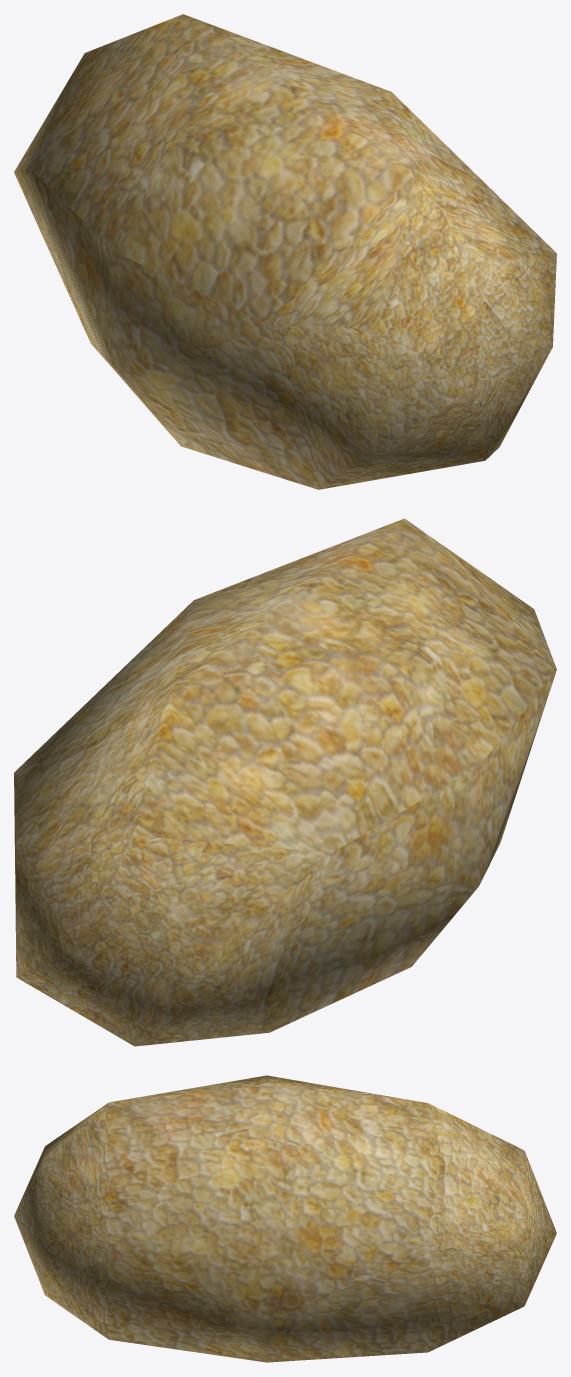
The model's file is Potato.FBX.
3 renders of one model, top to bottom at view 1: azimuth 30°, elevation 25°; view 2: azimuth 150°, elevation 25°; view 3: azimuth 270°, elevation 25°, orthographic. The views are drawn at different scales.
Parts seen in each view (by area): view 1: Potato; view 2: Potato; view 3: Potato.
Part boxes in pixels (left/top/right/bottom): Potato: left=14, top=14, right=556, bottom=489; Potato: left=14, top=518, right=556, bottom=1046; Potato: left=14, top=1075, right=556, bottom=1362.
Bounding box in the file's own units: 10.47 × 10.58 × 20.42.
